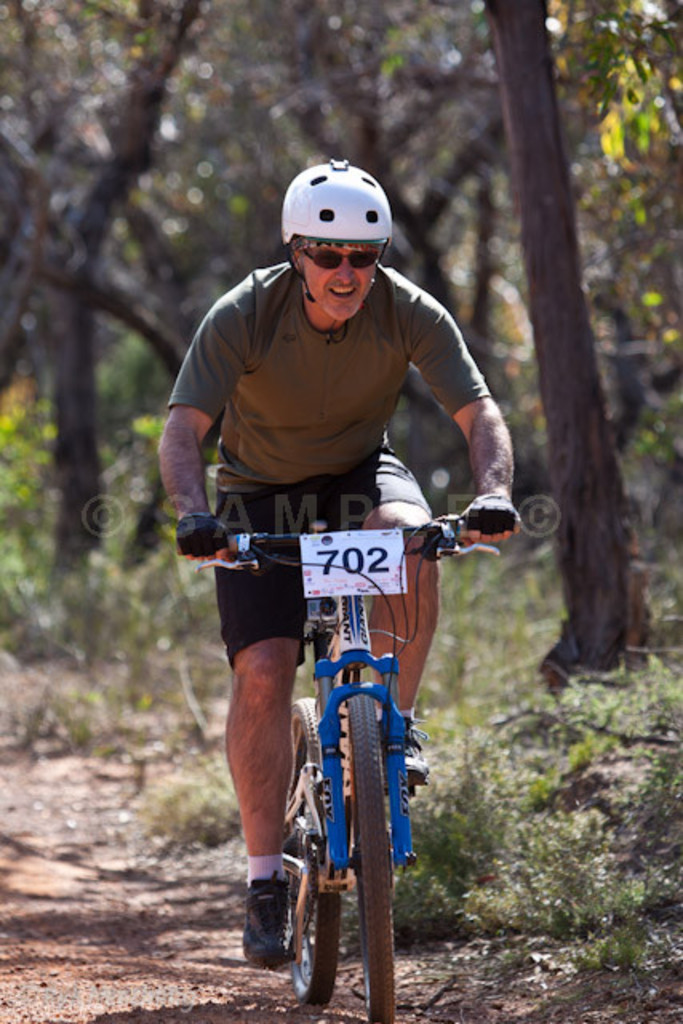Bike: (178, 522, 499, 978)
